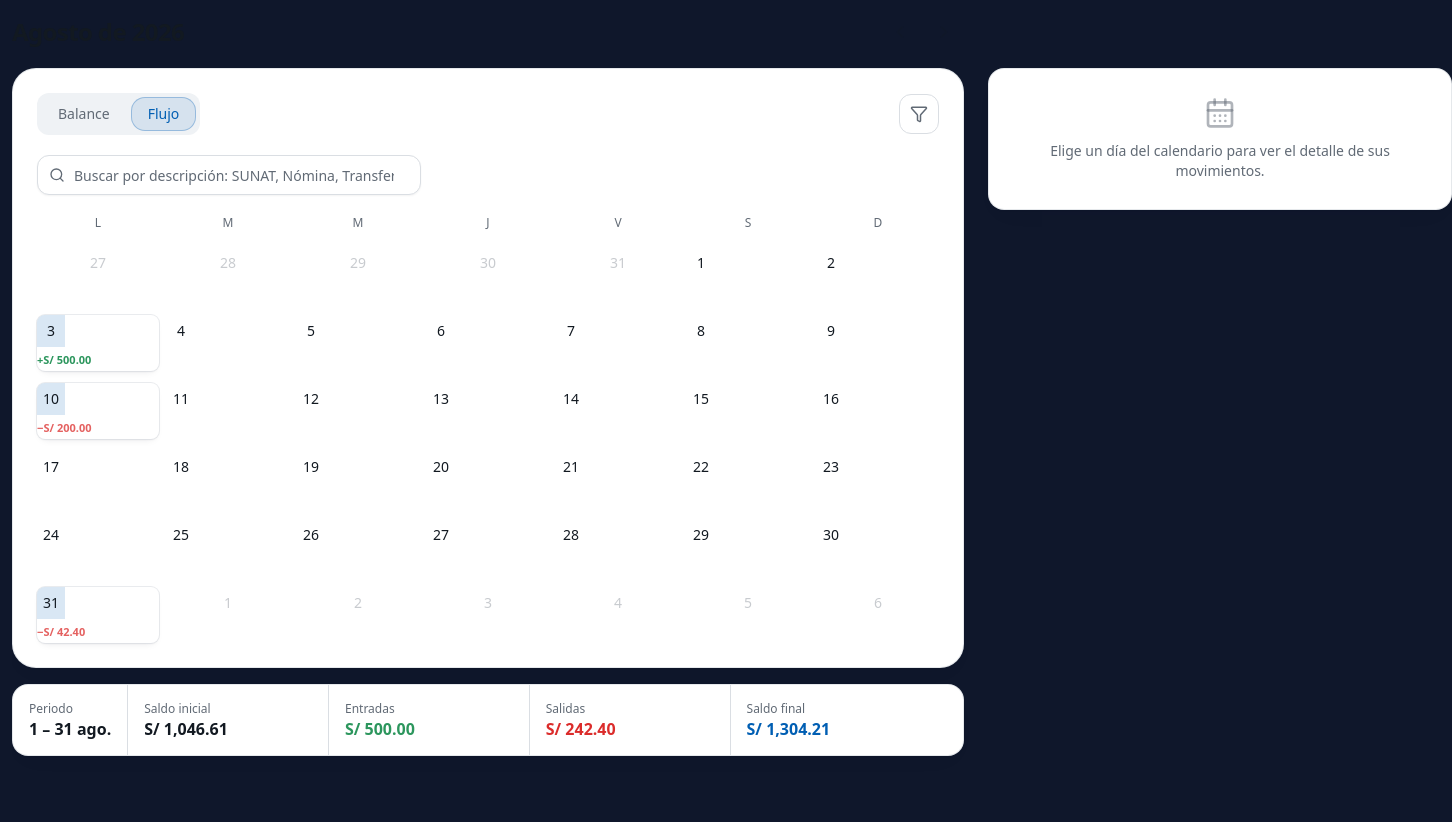
it: FinancialCalendarView › pinta en la celda el importe con su moneda y sus dos decimales
The image size is (1452, 822).
Expected: the text "−S/ 42.40" is shown, [37, 626, 85, 636]
Click the tab "Balance": (84, 114) [41, 97, 127, 131]
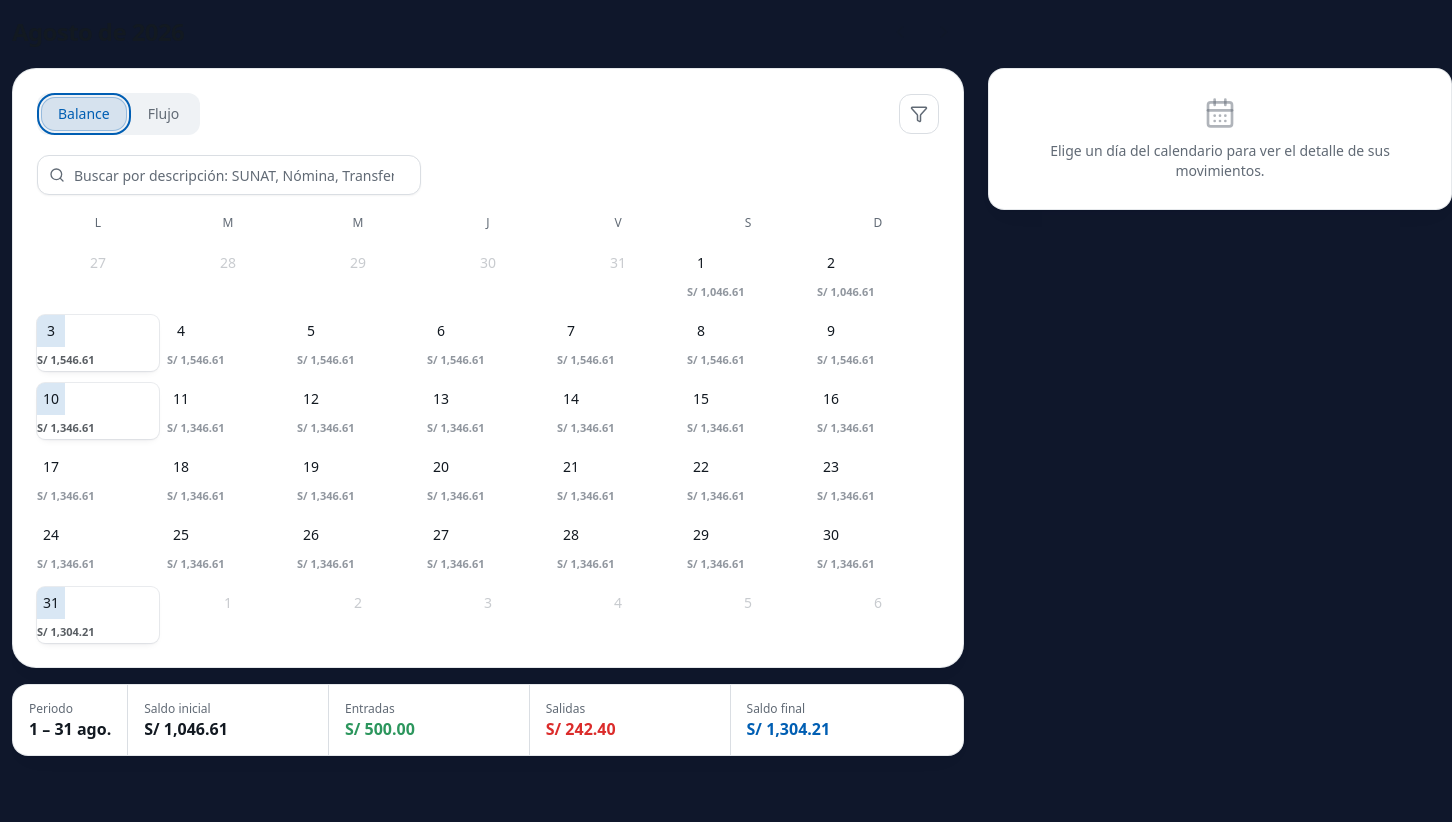
Expected: the 1st text "S/ 1,304.21" is shown, [37, 626, 94, 636]
